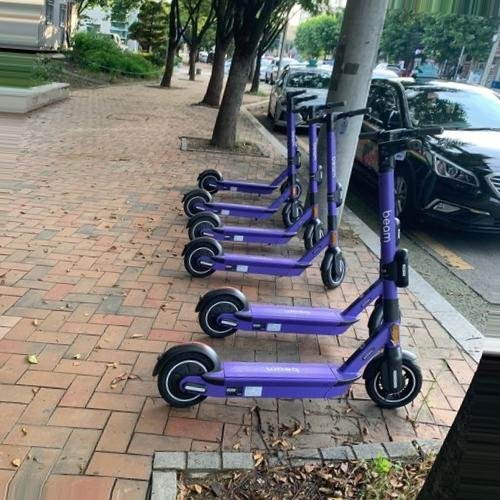scooter: (150, 139, 425, 409), (192, 122, 443, 340), (179, 105, 374, 289), (184, 99, 348, 254)
